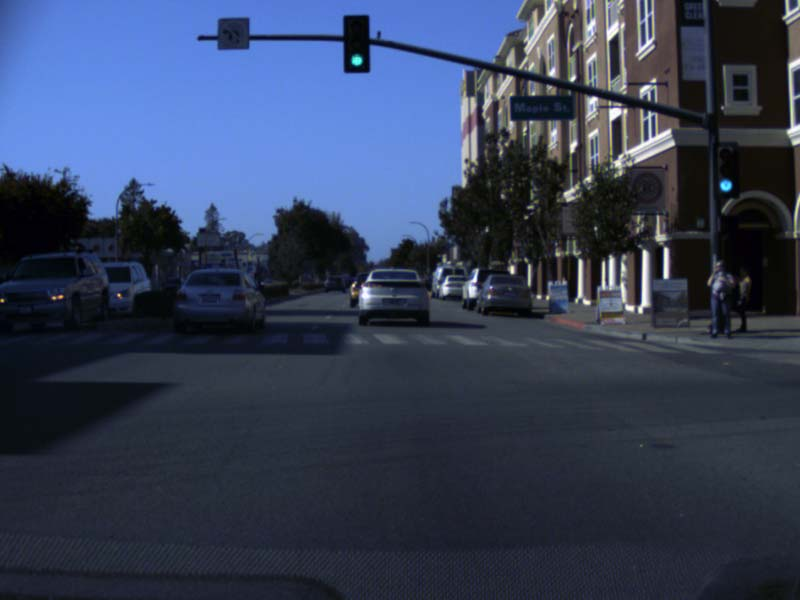Green: (343, 14, 369, 73), (716, 141, 739, 197)
